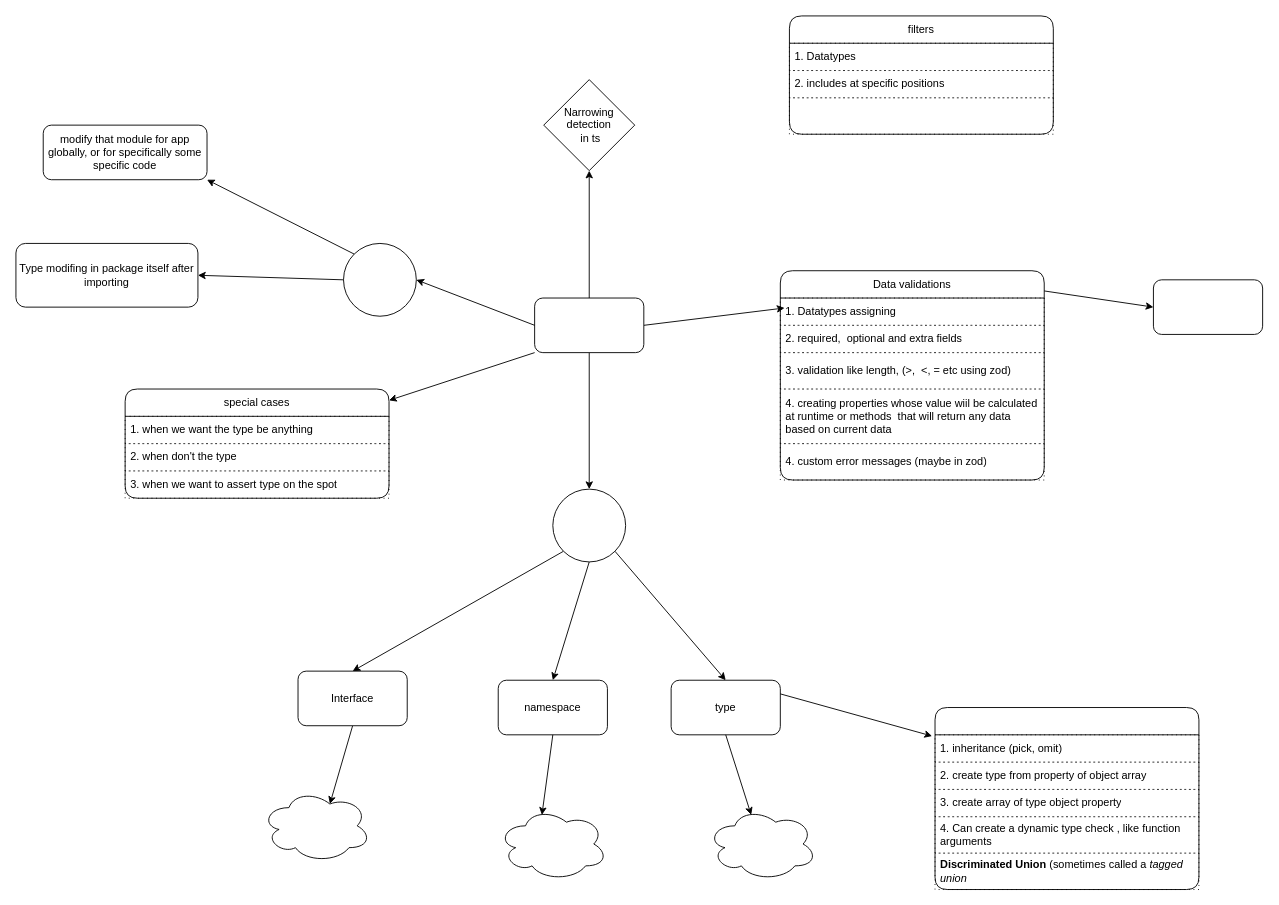
The diagram is 1279 pixels wide and 905 high, and some of its shapes have lost their labels. The centre of each missing label's shape, as x and y in pixels:
"3. order" goes at [921,115].
"contianer" goes at [552,843].
"Creation" goes at [589,525].
"Declaration" goes at [379,279].
"kinda shape" goes at [762,843].
"Regrex" goes at [1208,306].
"shape" goes at [316,825].
"Types" goes at [589,325].
